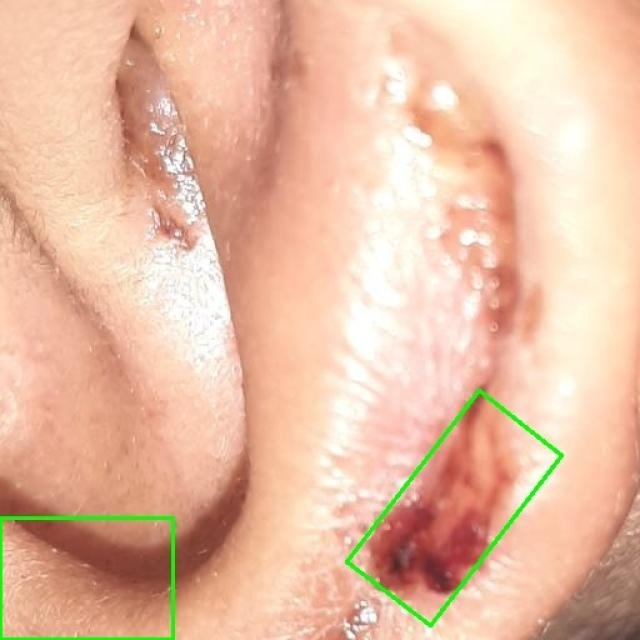Eczema: (347, 391, 562, 626), (0, 518, 174, 639)
